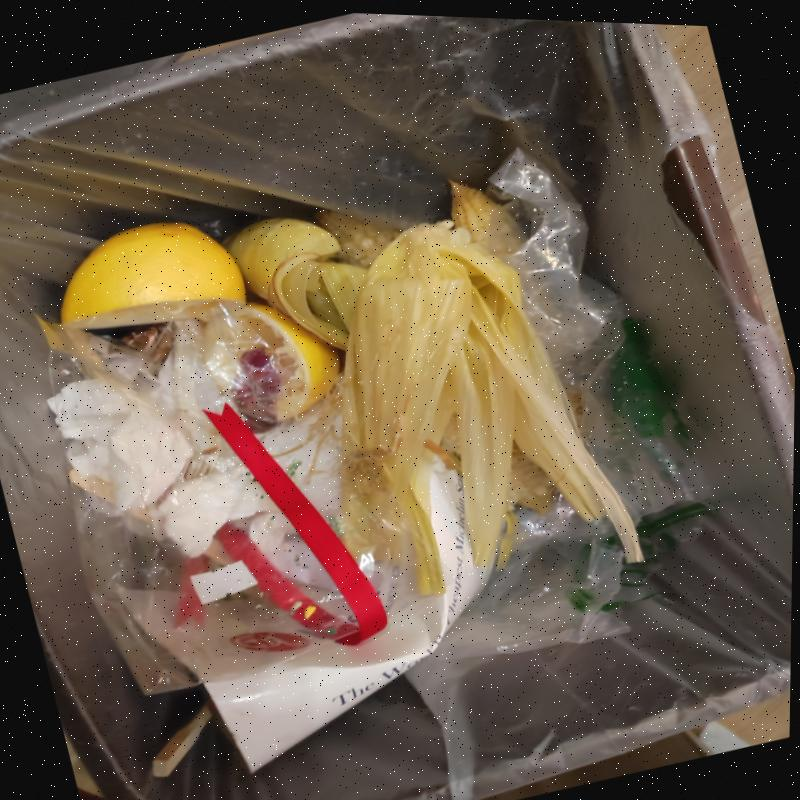fruit peels: (220, 216, 645, 593), (61, 220, 247, 328), (198, 302, 337, 419)
paper: (118, 447, 482, 771)
plastic bag: (405, 516, 630, 800), (47, 377, 194, 509)
